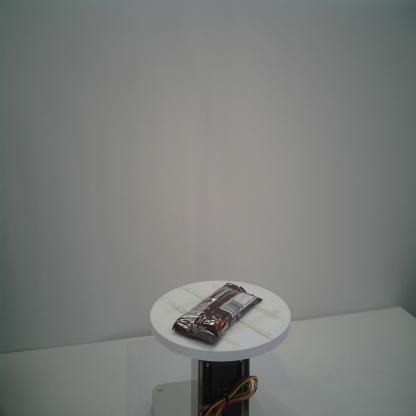Chocolate: (171, 282, 263, 344)
